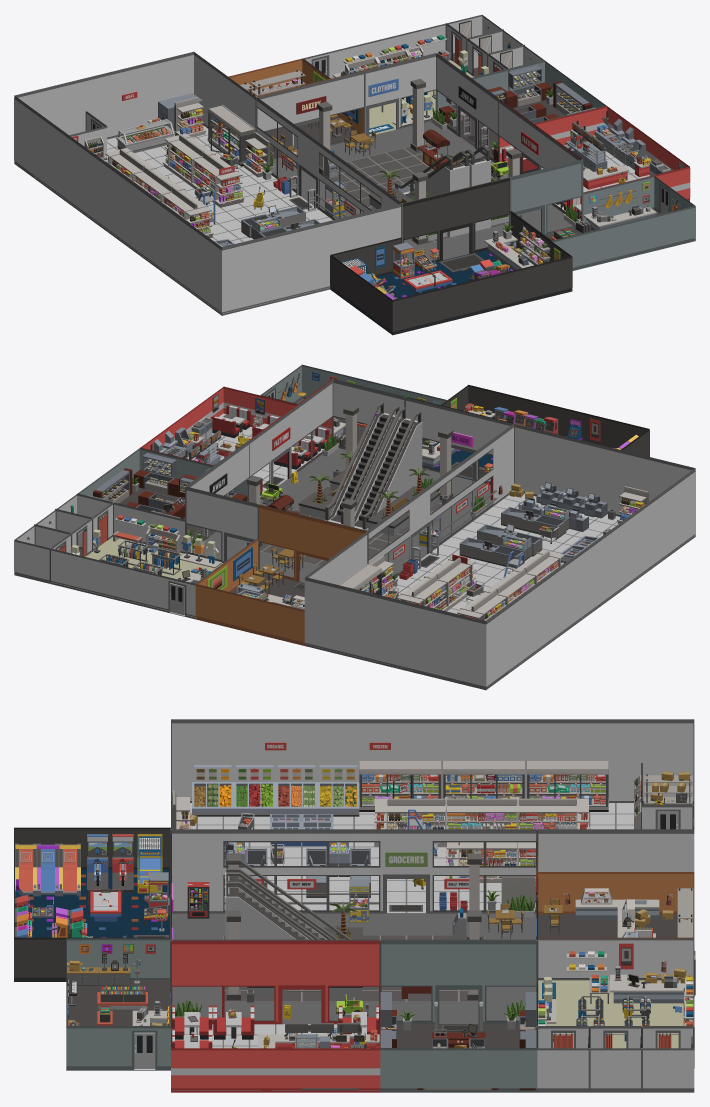
Rendered from Simple_Shops_Interiors_-_Demo_Scene-107e8aa8.glb.
The picture shows the model from 3 angles, top to bottom: view 1: azimuth 30°, elevation 25°; view 2: azimuth 150°, elevation 25°; view 3: azimuth 270°, elevation 25°; orthographic projection. The views are drawn at different scales.
Visible parts, largest first — view 1: polySurface1_SimpleShopInteriors_0 (×6); view 2: polySurface1_SimpleShopInteriors_0 (×6); view 3: polySurface1_SimpleShopInteriors_0 (×6).
Boxes of the visible parts, bbox=[...] form: polySurface1_SimpleShopInteriors_0 (×6): bbox=[14, 14, 695, 335]; polySurface1_SimpleShopInteriors_0 (×6): bbox=[14, 364, 695, 690]; polySurface1_SimpleShopInteriors_0 (×6): bbox=[14, 719, 695, 1092].
Bounding box in the file's own units: 65.08 × 11.6 × 65.16.
Materials: 2 (2 with a texture image).
